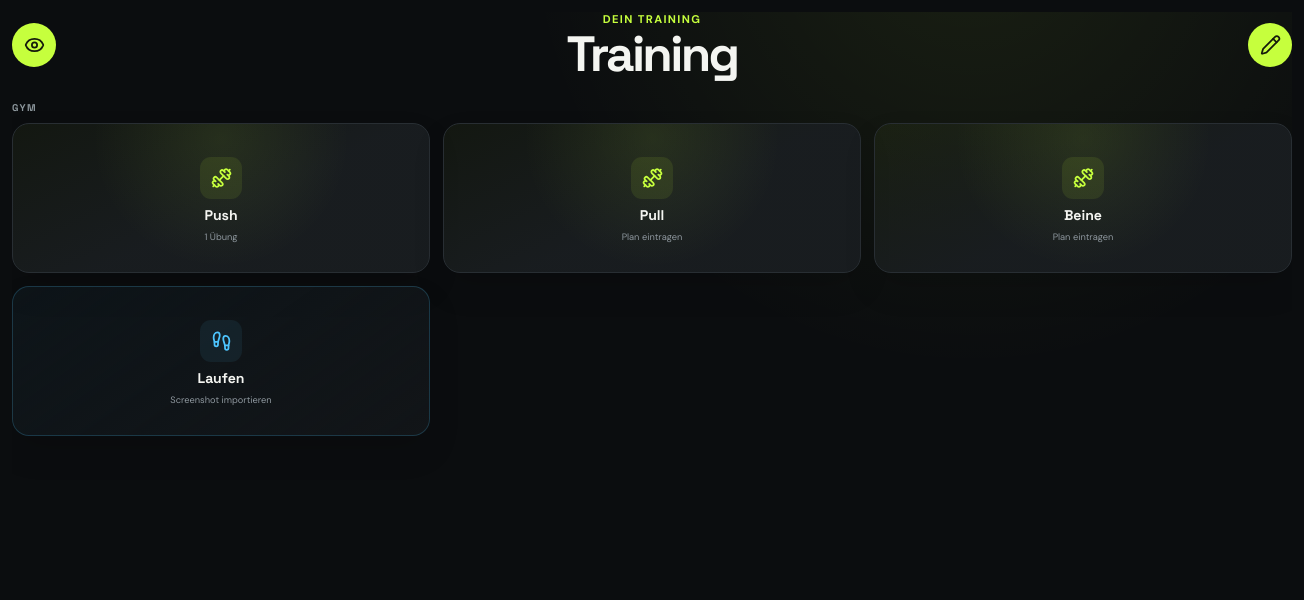
GYM-Workflow › öffnet den Verlauf date-first, klappt Snapshots auf und löscht bestätigt
Click the button named "Trainingsverlauf öffnen": (34,45) [12,23,56,67]
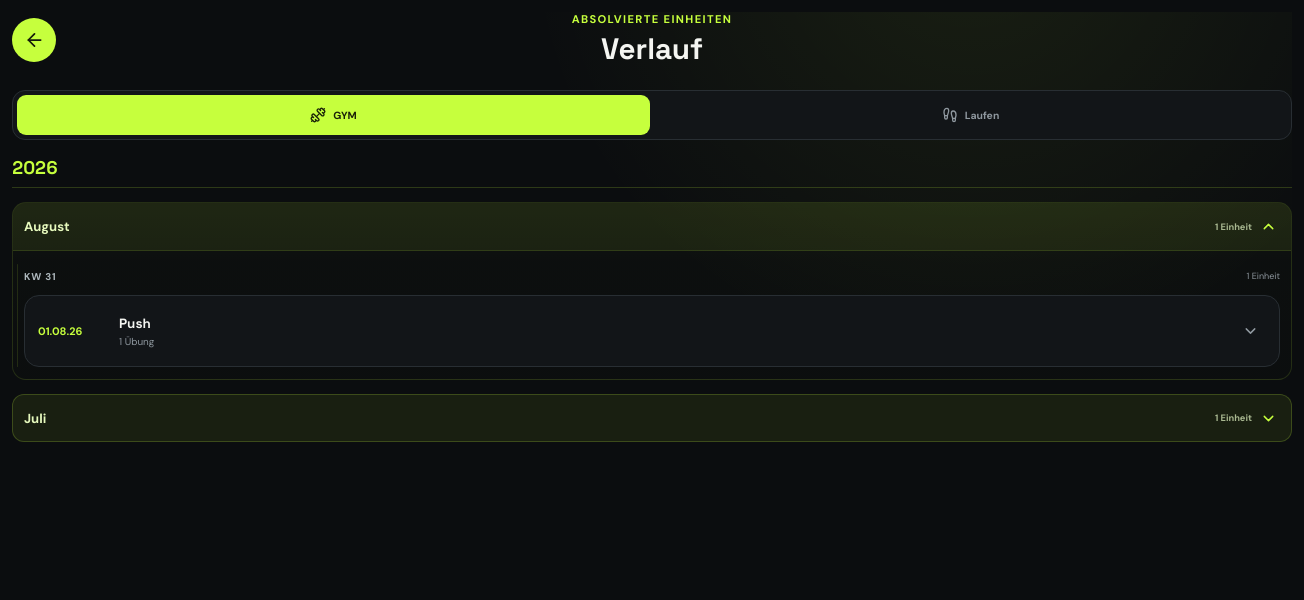
expect the heading "Verlauf" is shown: met, box [601,30,703,68]
Click the button "01.08.26 Push 1 Übung": (60,331) [25,296,1279,366]
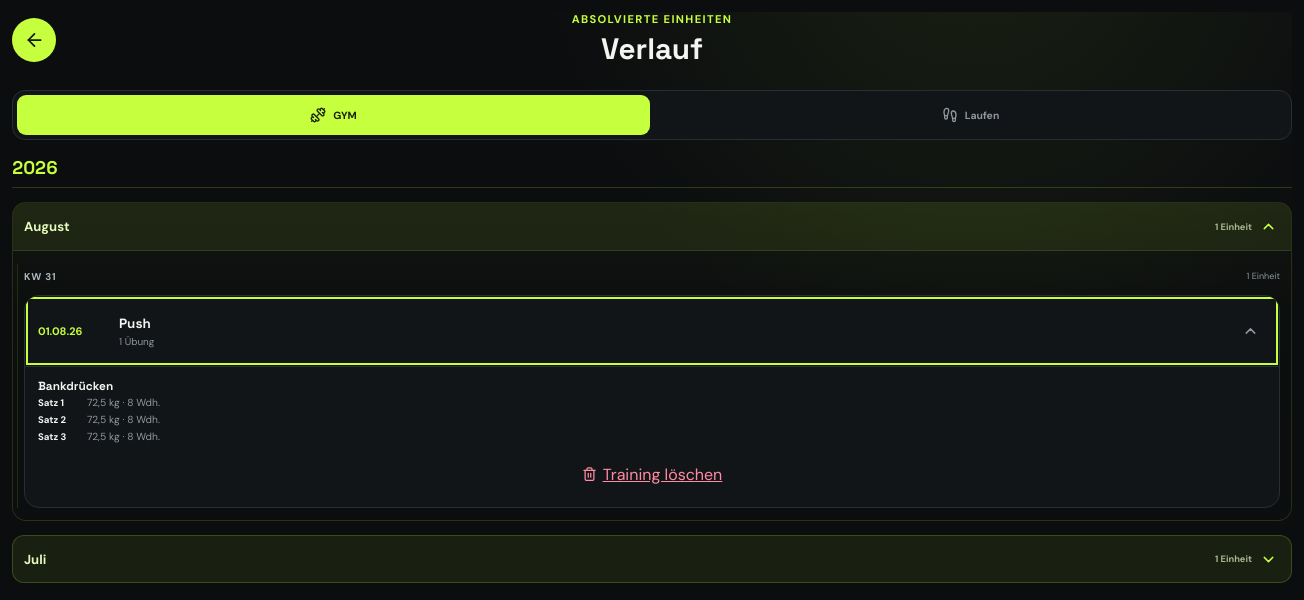
expect the text "Satz 1 72,5 kg · 8 Wdh." is shown 3 times: met, box [38,396,160,409]; [38,413,160,426]; [38,430,160,443]
Click the button "Training löschen": (652,474) [38,454,1266,494]
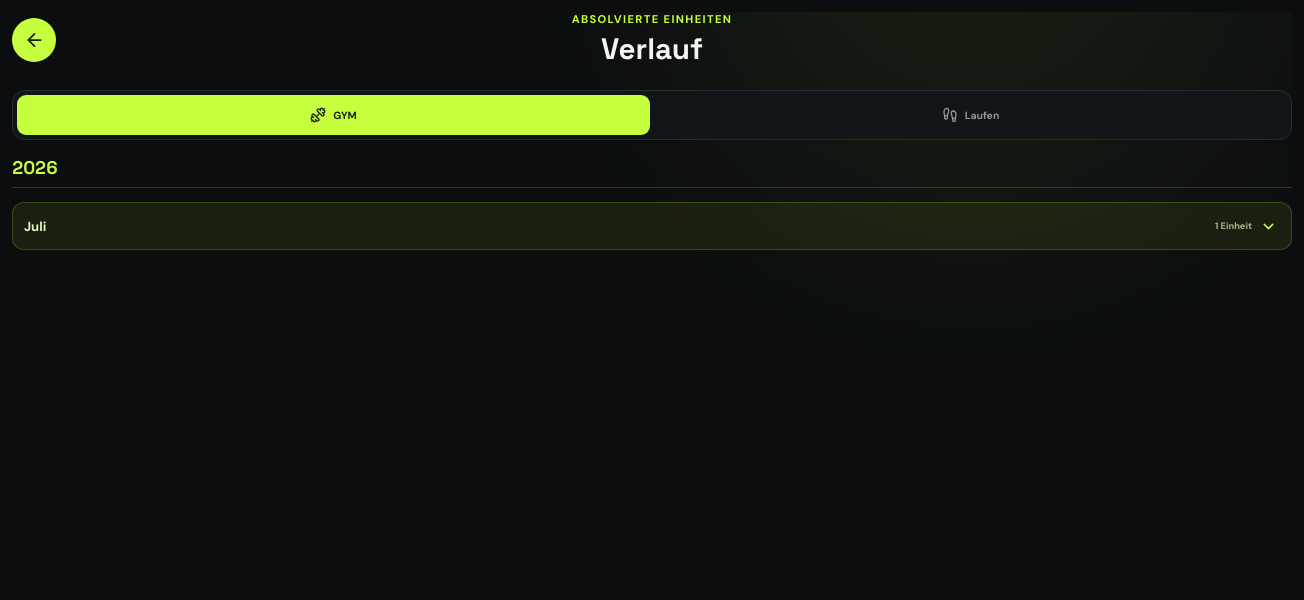
expect the button "01.08.26" is gone: met
Click the button named "Zurück zu Training": (34,40) [12,18,56,62]
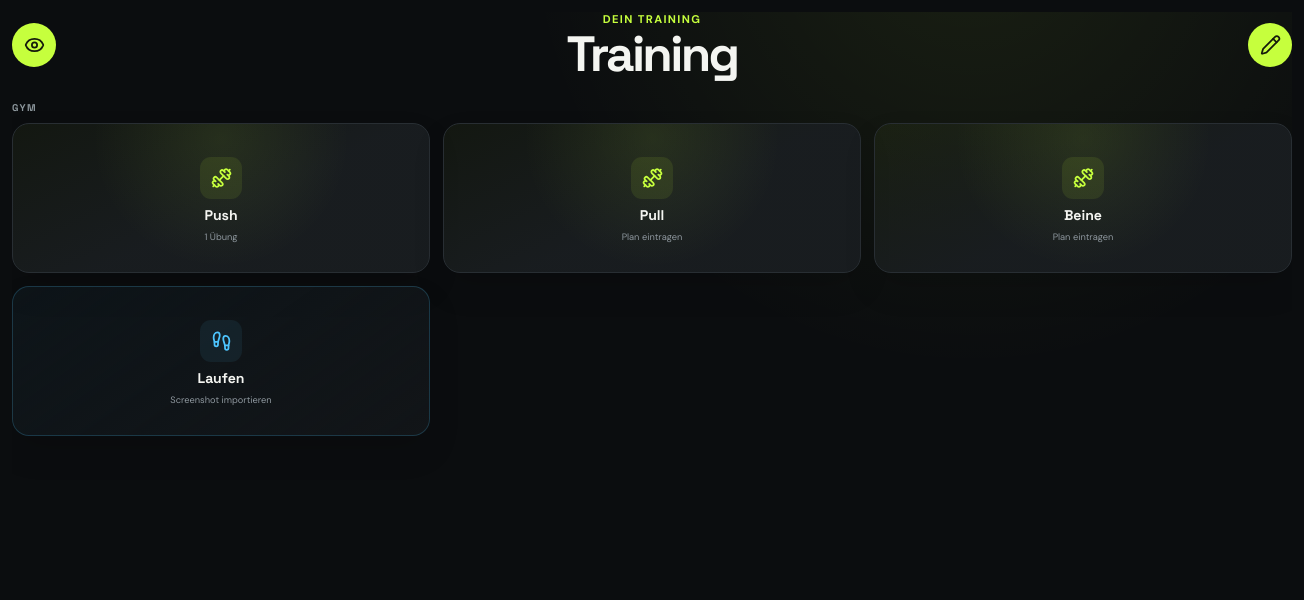
expect the heading "Training" is shown: met, box [567,22,737,85]
